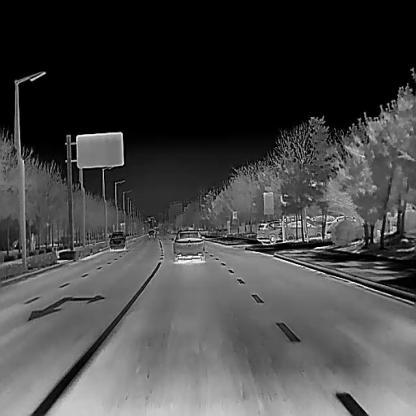car: (173, 229, 205, 260), (256, 219, 292, 243), (285, 219, 322, 240), (109, 230, 126, 249), (148, 229, 155, 237)
